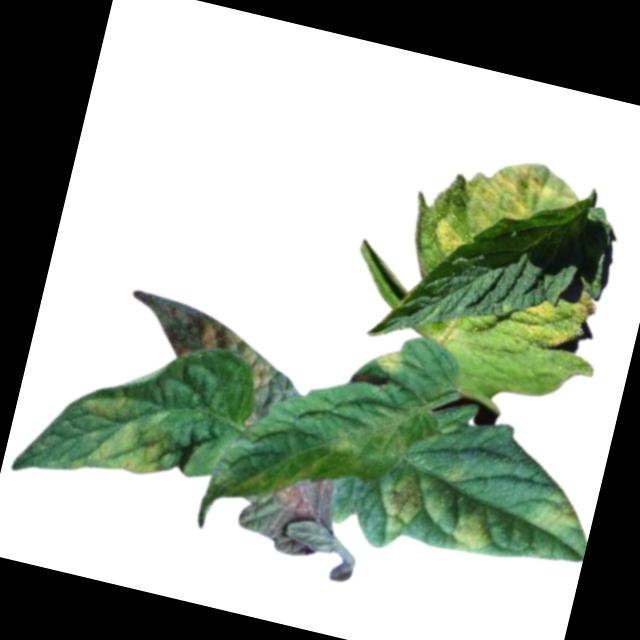Leaf_Mold: (107, 287, 315, 427), (430, 142, 584, 282), (64, 382, 183, 490), (231, 457, 346, 565), (520, 283, 602, 356), (376, 461, 439, 540), (444, 503, 501, 561), (535, 488, 590, 538), (375, 342, 409, 380)
